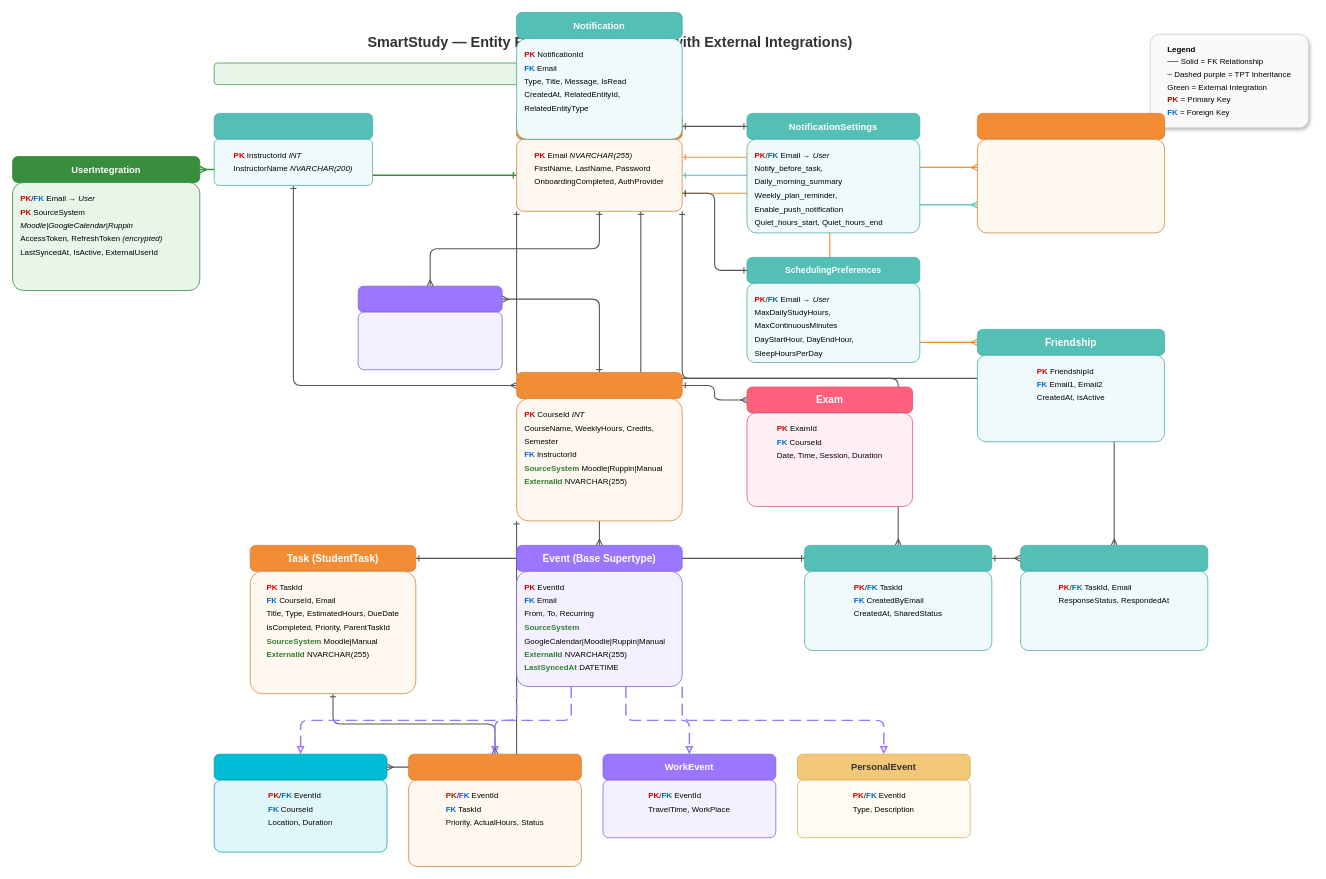
The diagram is 1326 pixels wide and 879 high, and some of its shapes have lost their labels. The centre of each missing label's shape, as x and y in pixels:
"ClassEvent" goes at (300,766).
"Course" goes at (599,385).
"External Systems: Moodle | Google Calendar | Ruppin Academic" goes at (375,73).
"FriendRequest" goes at (1071,126).
"Instructor" goes at (293,126).
"PK / FK Email, CourseId StudyPartnerEmail" goes at (429,340).
"PK RequestId FK RequesterEmail, AddresseeEmail Status, RequestedAt, RespondedAt" goes at (1071,186).
"SharedTask" goes at (898,558).
"SharedTaskMember" goes at (1114,558).
"TaskEvent" goes at (494,766).
"UserCourse" goes at (429,298).
